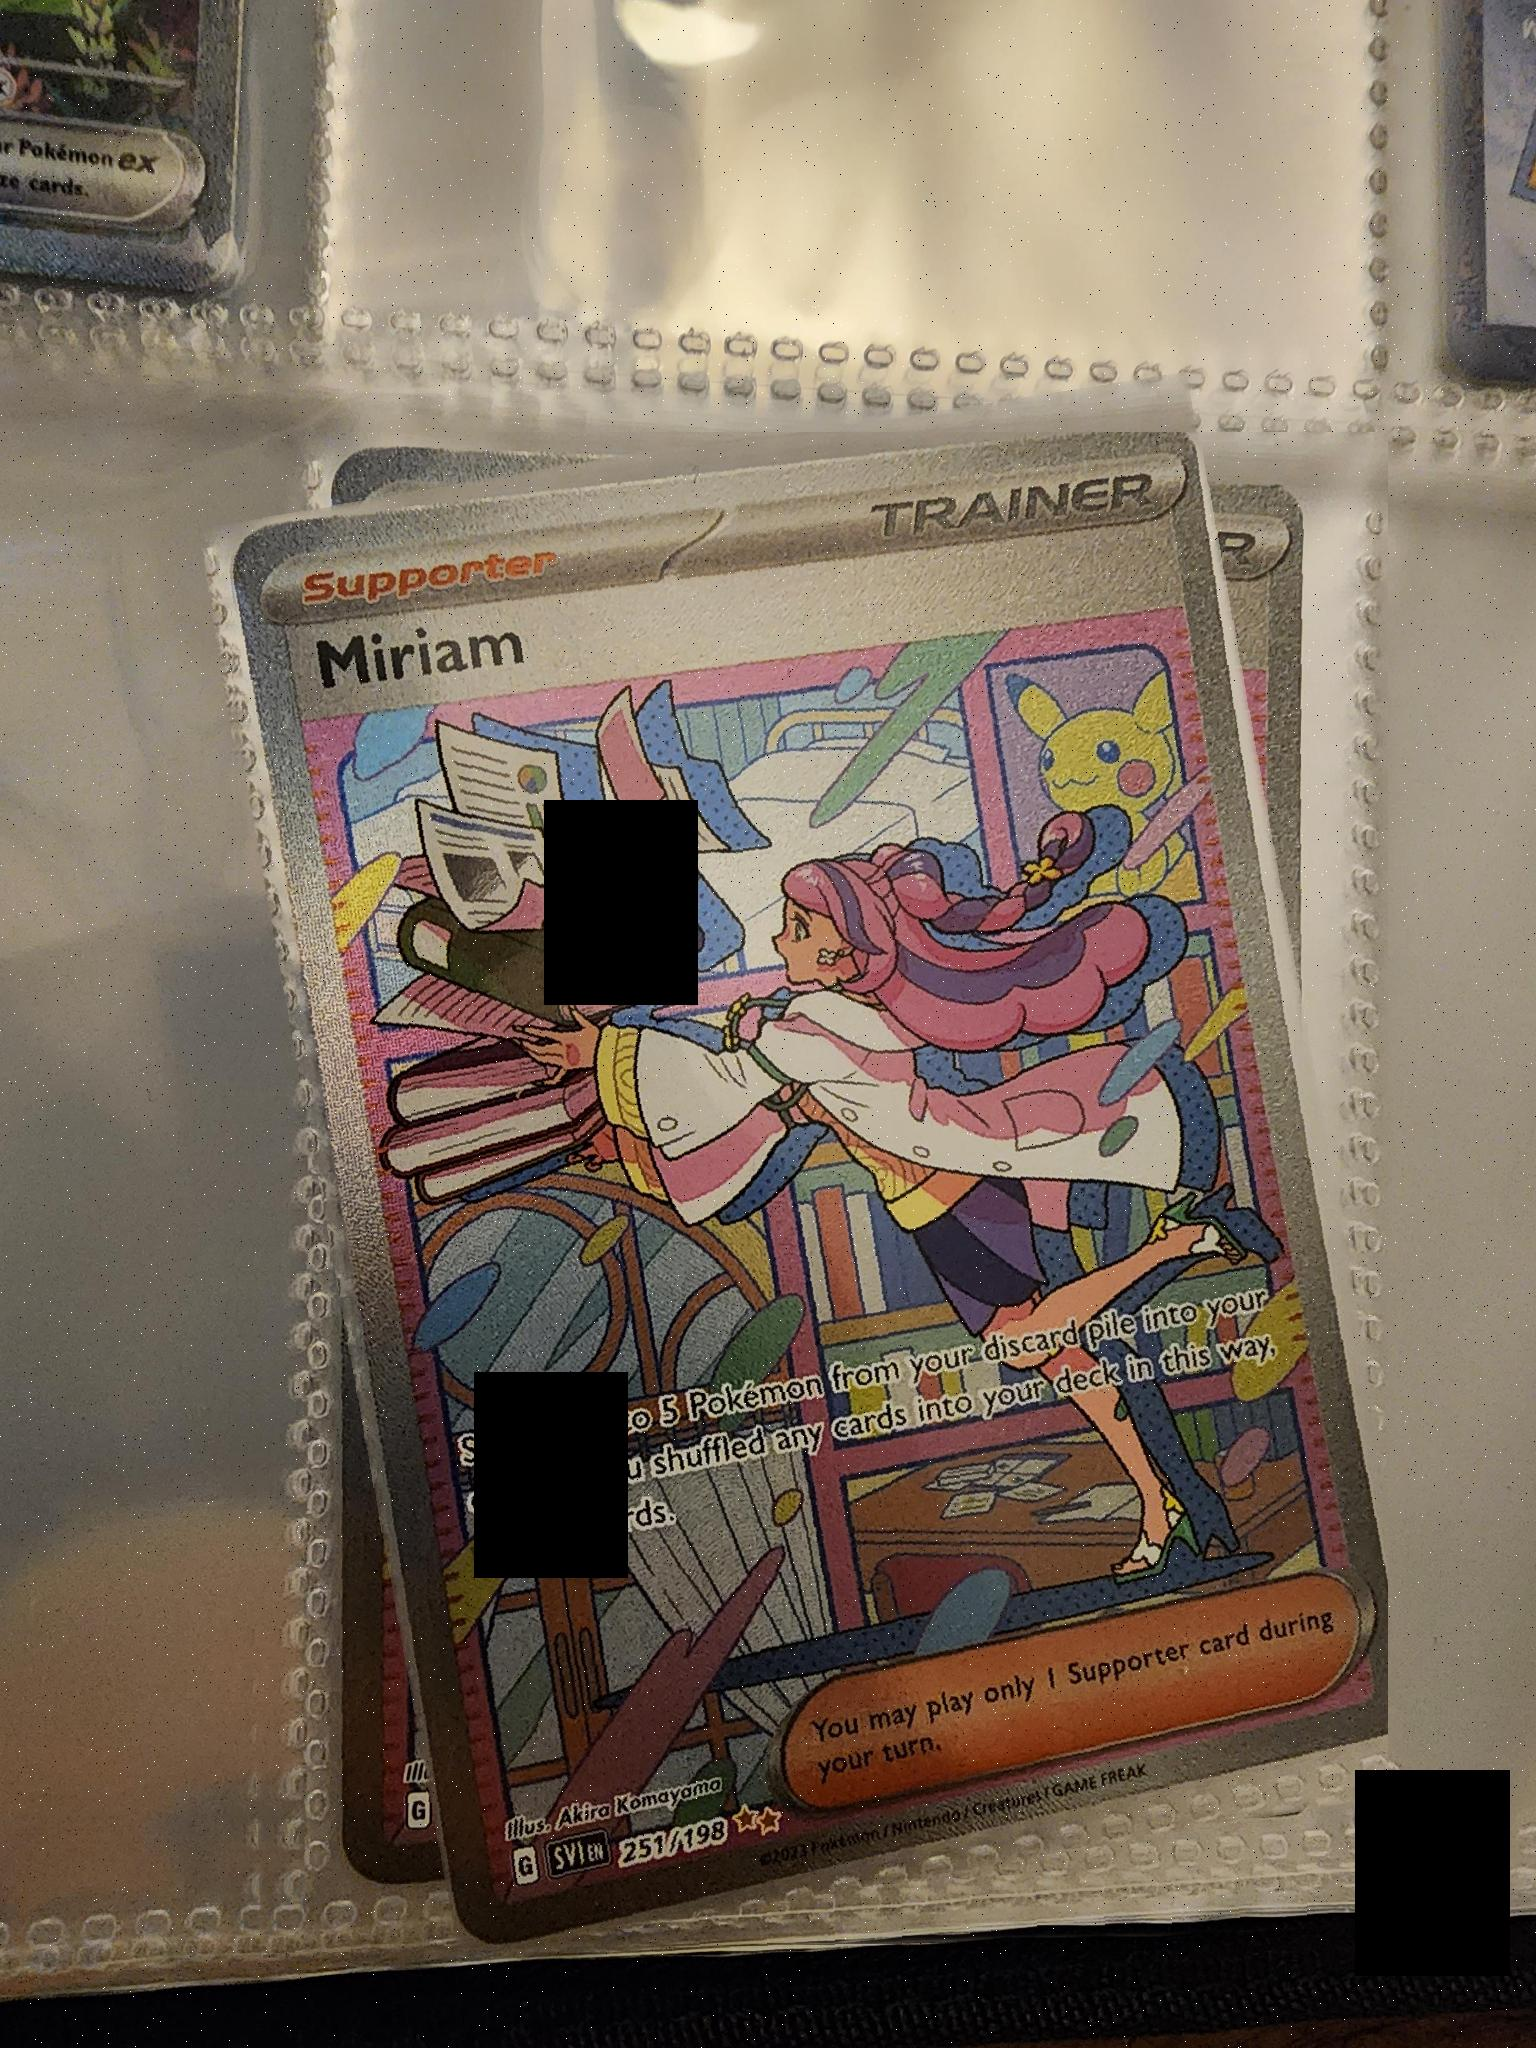card: (231, 432, 1388, 1950)
